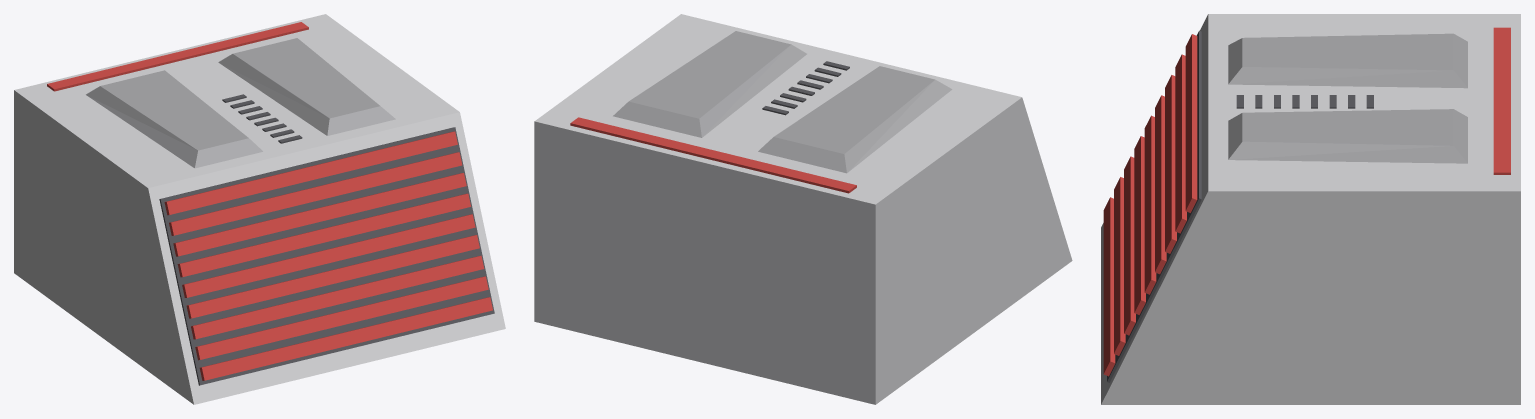
File: vge_e_giant_thruster.obj
The picture shows the model from 3 angles, left to right: view 1: azimuth 30°, elevation 25°; view 2: azimuth 150°, elevation 25°; view 3: azimuth 270°, elevation 25°; orthographic projection. The views are drawn at different scales.
Parts seen in each view (by area): view 1: vge_giant_astrofuel_thruster_0, vge_giant_astrofuel_thruster_1, vge_giant_astrofuel_thruster_11, vge_giant_astrofuel_thruster_12, vge_giant_astrofuel_thruster_4, vge_giant_astrofuel_thruster_10, vge_giant_astrofuel_thruster_5, vge_giant_astrofuel_thruster_7, vge_giant_astrofuel_thruster_8, vge_giant_astrofuel_thruster_3, vge_giant_astrofuel_thruster_2, vge_giant_astrofuel_thruster_6 (+2 smaller); view 2: vge_giant_astrofuel_thruster_0, vge_giant_astrofuel_thruster_11, vge_giant_astrofuel_thruster_12, vge_giant_astrofuel_thruster_21; view 3: vge_giant_astrofuel_thruster_0, vge_giant_astrofuel_thruster_12, vge_giant_astrofuel_thruster_11, vge_giant_astrofuel_thruster_21, vge_giant_astrofuel_thruster_10, vge_giant_astrofuel_thruster_2, vge_giant_astrofuel_thruster_6, vge_giant_astrofuel_thruster_9, vge_giant_astrofuel_thruster_4, vge_giant_astrofuel_thruster_5, vge_giant_astrofuel_thruster_8, vge_giant_astrofuel_thruster_1 (+2 smaller).
Part boxes in pixels (x1,y1,x2,y2): vge_giant_astrofuel_thruster_0: [14, 14, 505, 404]; vge_giant_astrofuel_thruster_1: [159, 127, 494, 385]; vge_giant_astrofuel_thruster_11: [86, 70, 262, 168]; vge_giant_astrofuel_thruster_12: [218, 38, 395, 135]; vge_giant_astrofuel_thruster_4: [191, 255, 484, 339]; vge_giant_astrofuel_thruster_10: [164, 131, 457, 215]; vge_giant_astrofuel_thruster_5: [186, 235, 479, 318]; vge_giant_astrofuel_thruster_7: [177, 193, 470, 277]; vge_giant_astrofuel_thruster_8: [173, 173, 466, 256]; vge_giant_astrofuel_thruster_3: [195, 276, 488, 360]; vge_giant_astrofuel_thruster_2: [199, 297, 492, 380]; vge_giant_astrofuel_thruster_6: [182, 214, 475, 297]; vge_giant_astrofuel_thruster_0: [534, 14, 1072, 404]; vge_giant_astrofuel_thruster_11: [758, 66, 952, 173]; vge_giant_astrofuel_thruster_12: [613, 31, 806, 137]; vge_giant_astrofuel_thruster_21: [570, 117, 856, 193]; vge_giant_astrofuel_thruster_0: [1101, 14, 1520, 404]; vge_giant_astrofuel_thruster_12: [1228, 109, 1467, 163]; vge_giant_astrofuel_thruster_11: [1228, 33, 1467, 88]; vge_giant_astrofuel_thruster_21: [1493, 27, 1510, 174]; vge_giant_astrofuel_thruster_10: [1185, 34, 1197, 212]; vge_giant_astrofuel_thruster_2: [1103, 197, 1115, 376]; vge_giant_astrofuel_thruster_6: [1144, 115, 1156, 294]; vge_giant_astrofuel_thruster_9: [1175, 54, 1186, 233]; vge_giant_astrofuel_thruster_4: [1124, 156, 1135, 335]; vge_giant_astrofuel_thruster_5: [1134, 136, 1145, 314]; vge_giant_astrofuel_thruster_8: [1165, 75, 1176, 253]; vge_giant_astrofuel_thruster_1: [1107, 30, 1201, 382].
Bounding box in the file's own units: 2.94 × 1.75 × 2.94.
